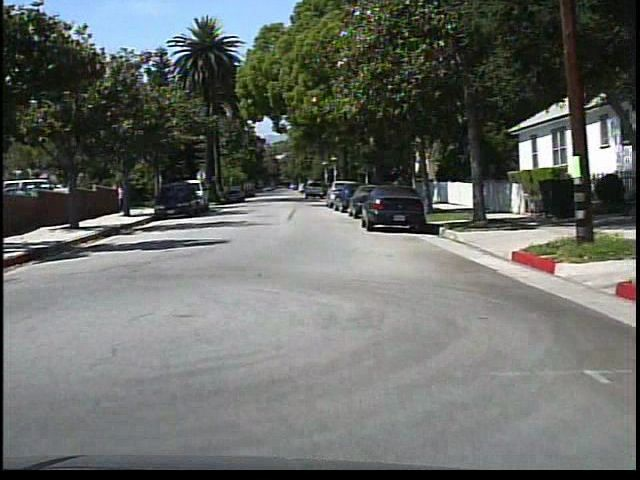person: (114, 179, 131, 217)
